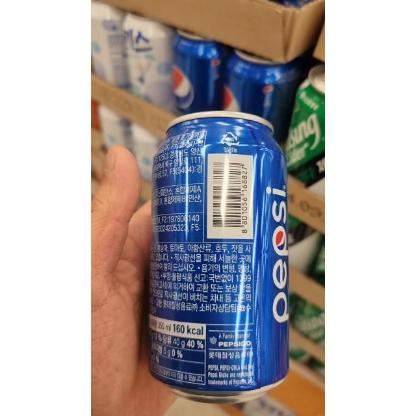Can: (150, 107, 290, 403)
